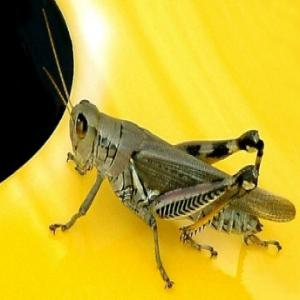locust: (52, 66, 300, 300)
